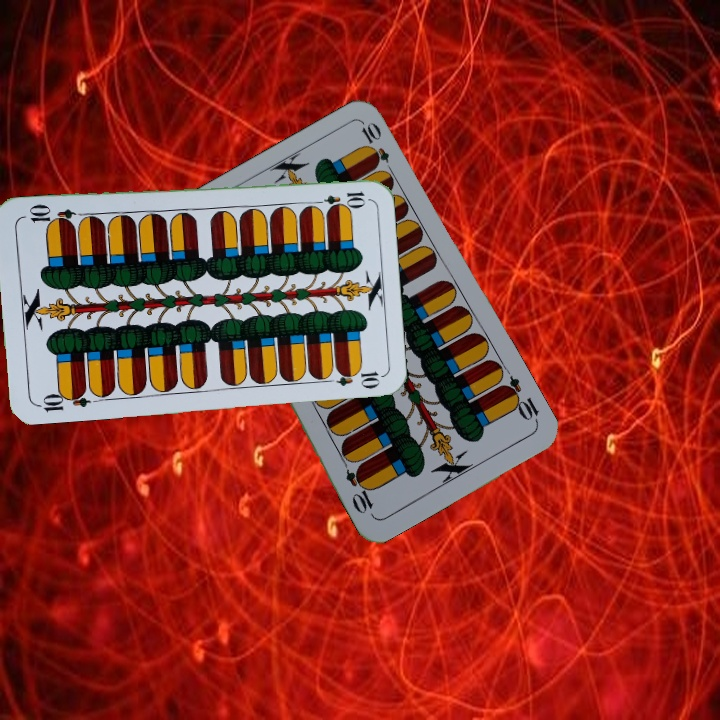E10: (497, 372, 542, 426), (33, 385, 92, 414), (309, 187, 368, 209)
